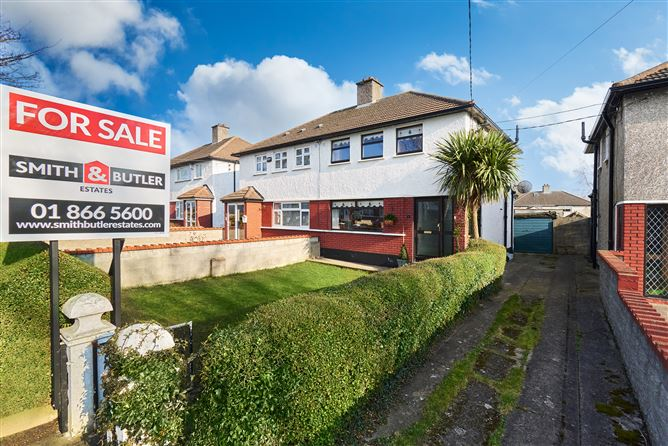property sign: (1, 79, 174, 273)
